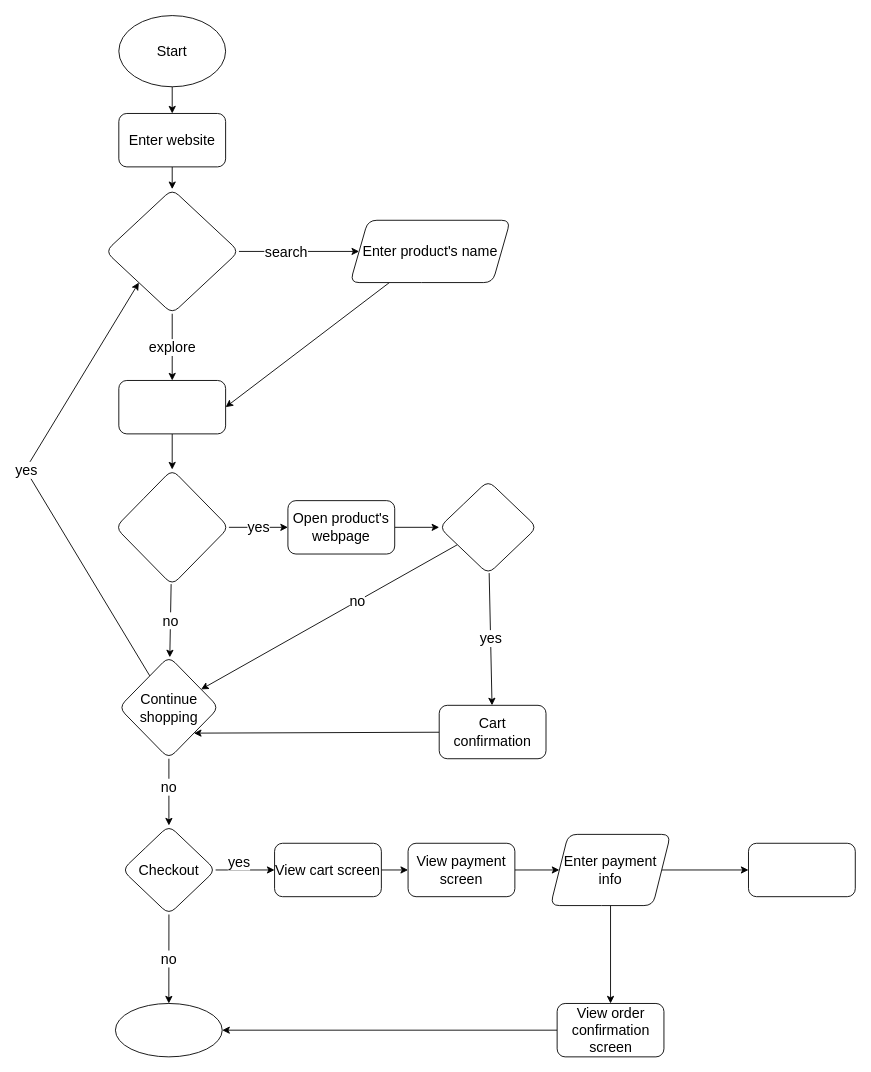
The diagram is 871 pixels wide and 1072 high, and some of its shapes have lost their labels. Each missing label, with the centre of its shape:
"Add item to cart" belongs at (x=487, y=527).
"Email order confirmation" belongs at (x=801, y=869).
"End" belongs at (x=168, y=1030).
"Look over product" belongs at (x=172, y=407).
"Search or explore products" belongs at (x=172, y=251).
"View specific product" belongs at (x=172, y=527).
